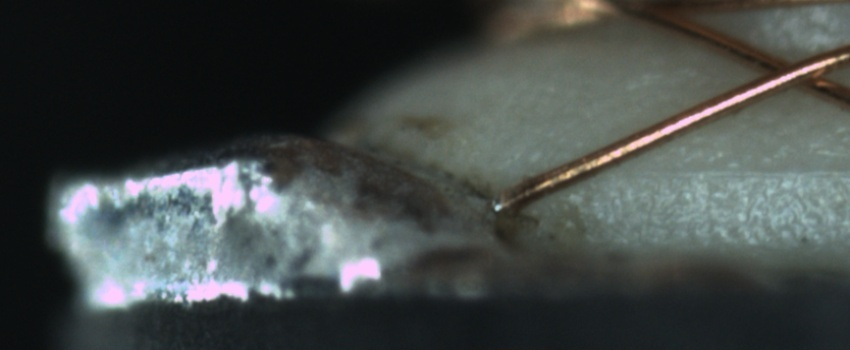CL: (734, 41, 843, 100)
DL: (616, 133, 845, 202)
